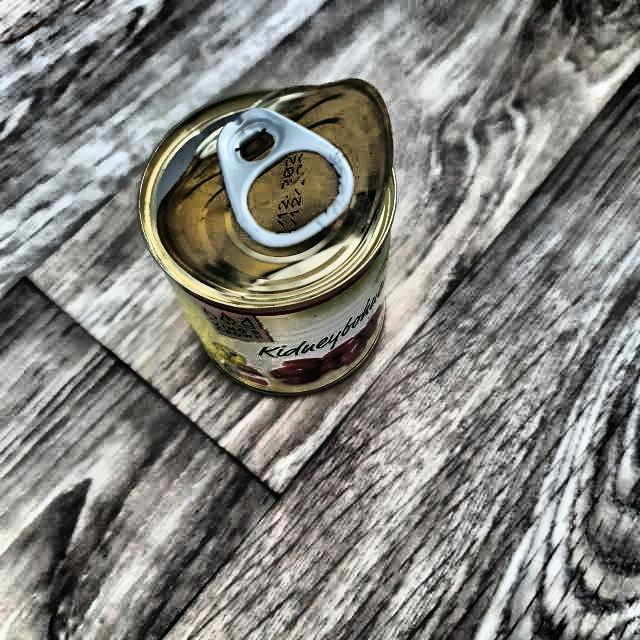metal: (137, 79, 396, 399)
